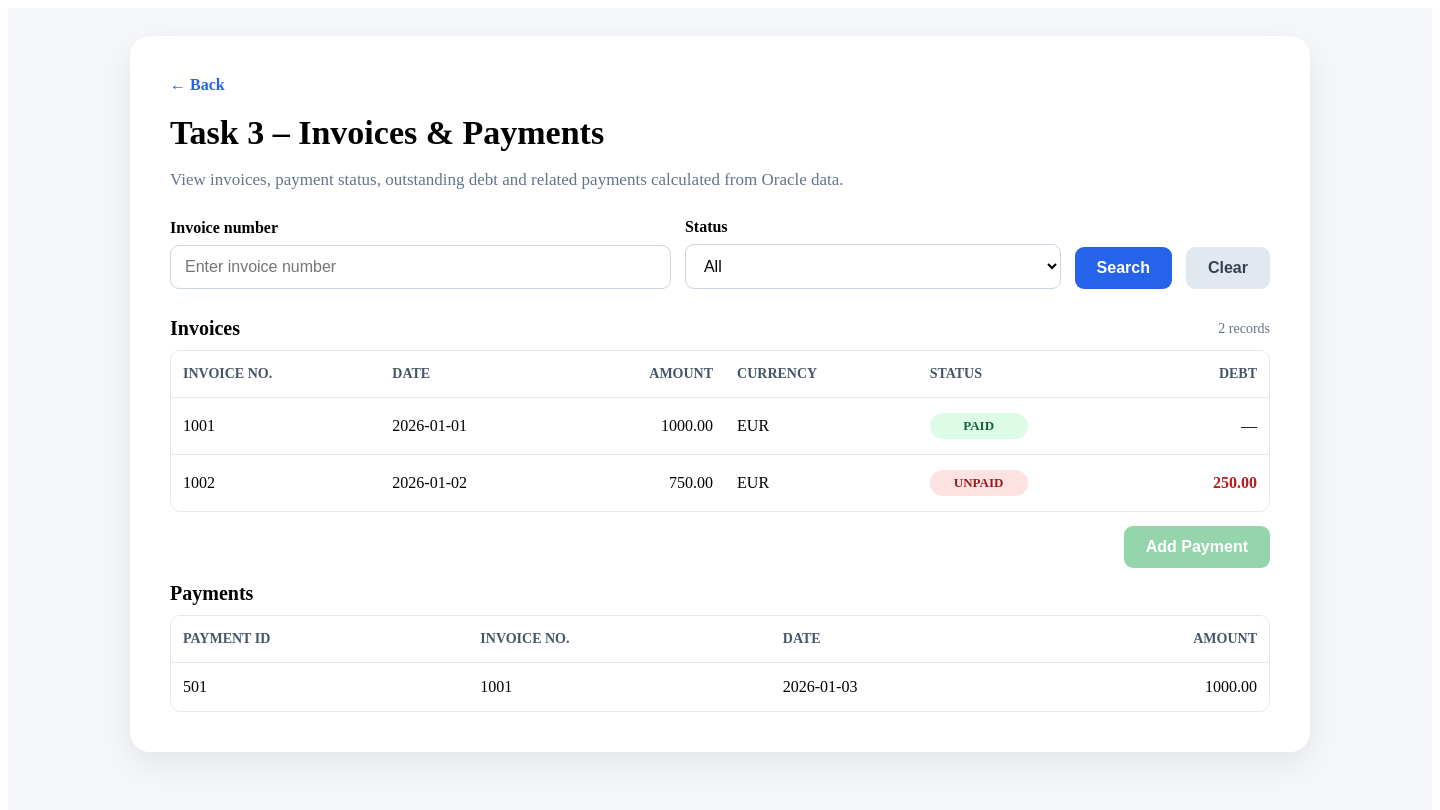
Test: InvoiceView › loads payments for selected invoice
What coordinates should you click on to do the following:
click the 1st row with class "invoice-row"
I would click on:
 (720, 426)
Its box is [171,398,1269,454].
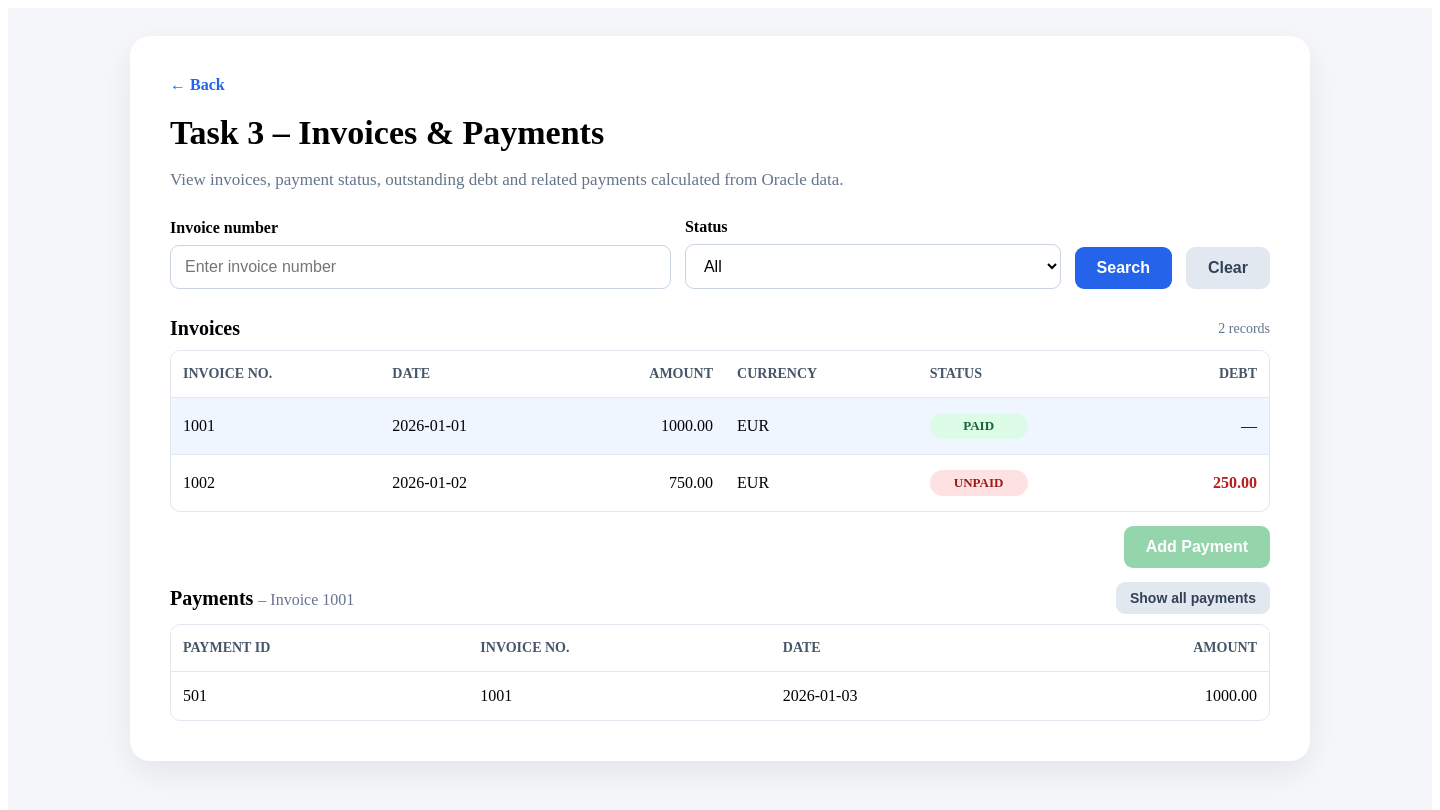
Expected: the text with class "selected-invoice" shows "Invoice 1001", [258,590,354,608]
